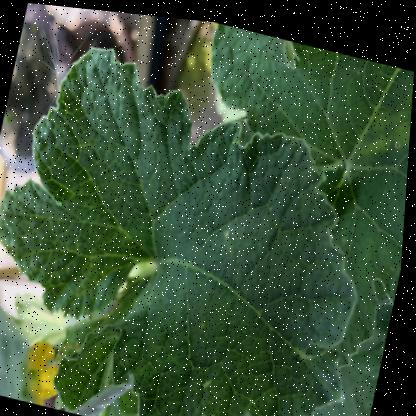Normal: (0, 16, 406, 415)
